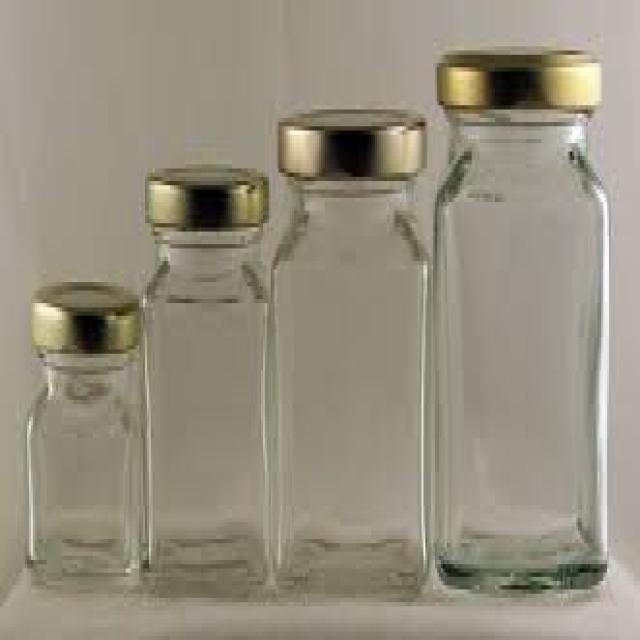glass: (428, 110, 606, 590), (267, 177, 427, 585), (139, 227, 271, 594), (25, 349, 139, 577)
metal: (433, 51, 600, 114), (277, 105, 424, 173), (143, 165, 271, 228), (29, 278, 137, 345)
